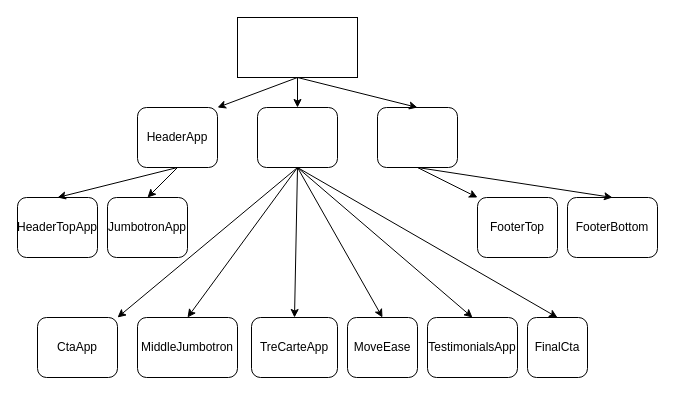
Image size: 675x395. Some labels were removed from this diagram. Here are the shapes that lost their labels. From the top down, the centre of each, then its label:
the point at 297,47: App.vue
the point at 297,137: MainApp
the point at 417,137: FooterApp
